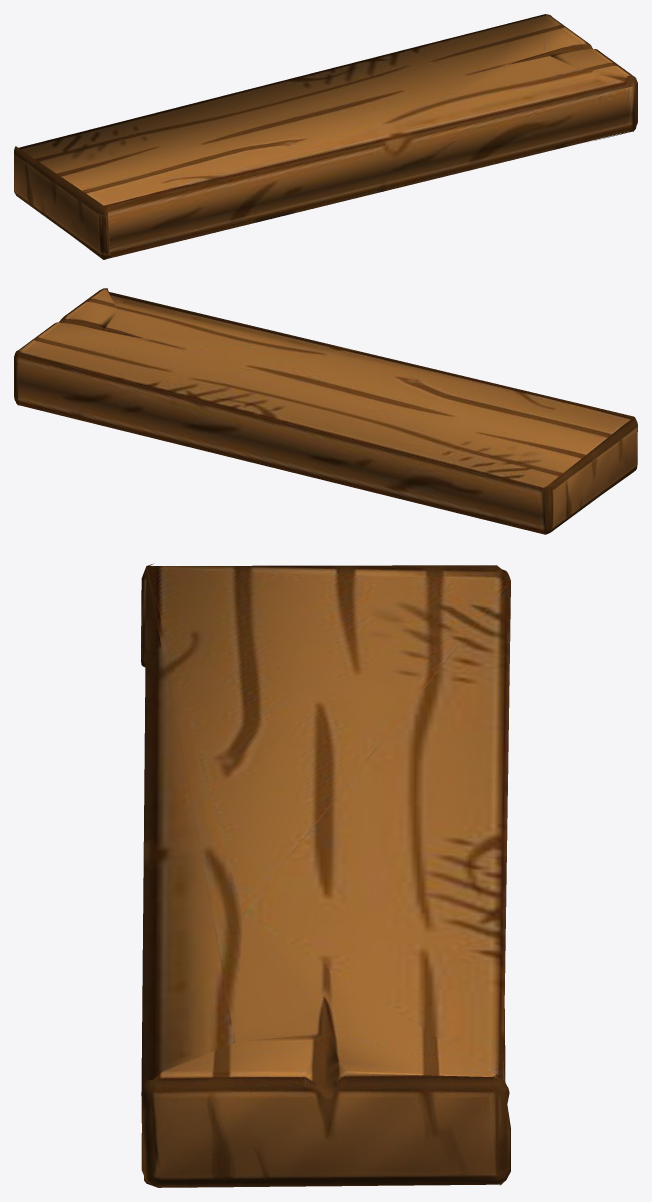
Rendered from wood.glb.
3 renders of one model, top to bottom at view 1: azimuth 30°, elevation 25°; view 2: azimuth 150°, elevation 25°; view 3: azimuth 270°, elevation 25°, orthographic. The views are drawn at different scales.
Size of the model in its own units: 1.92 by 0.1914 by 0.5696.
1 material, 1 textured.
